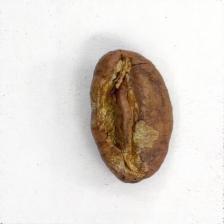NG: (90, 58, 159, 182)
